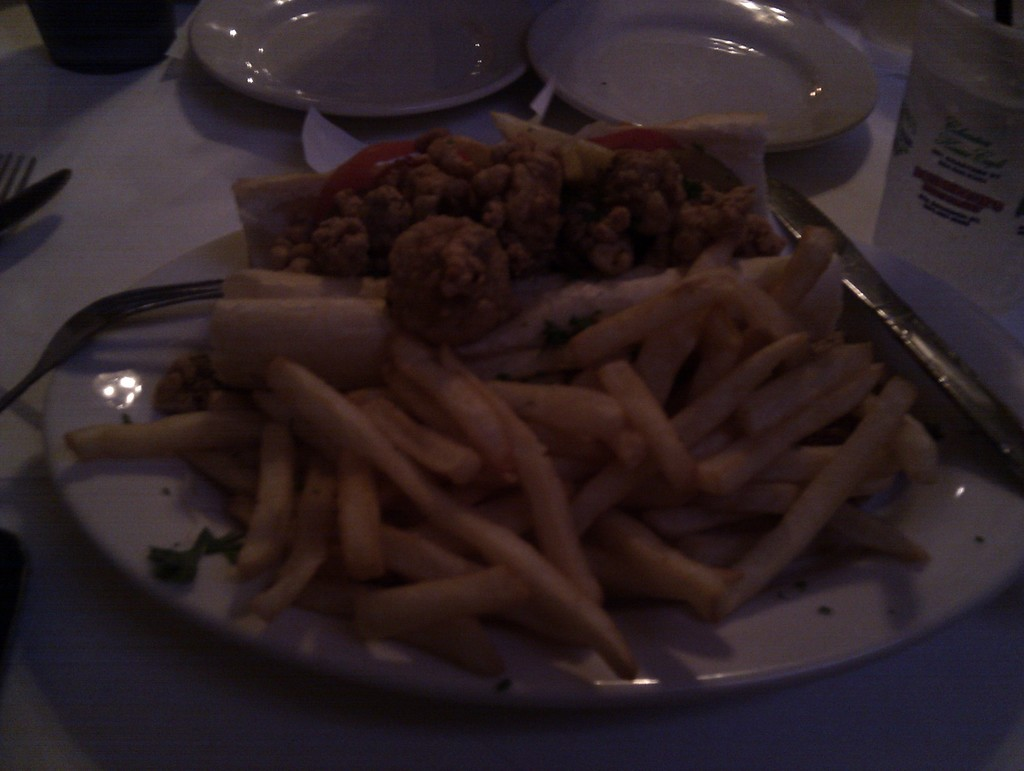French fries: (121, 210, 949, 692)
